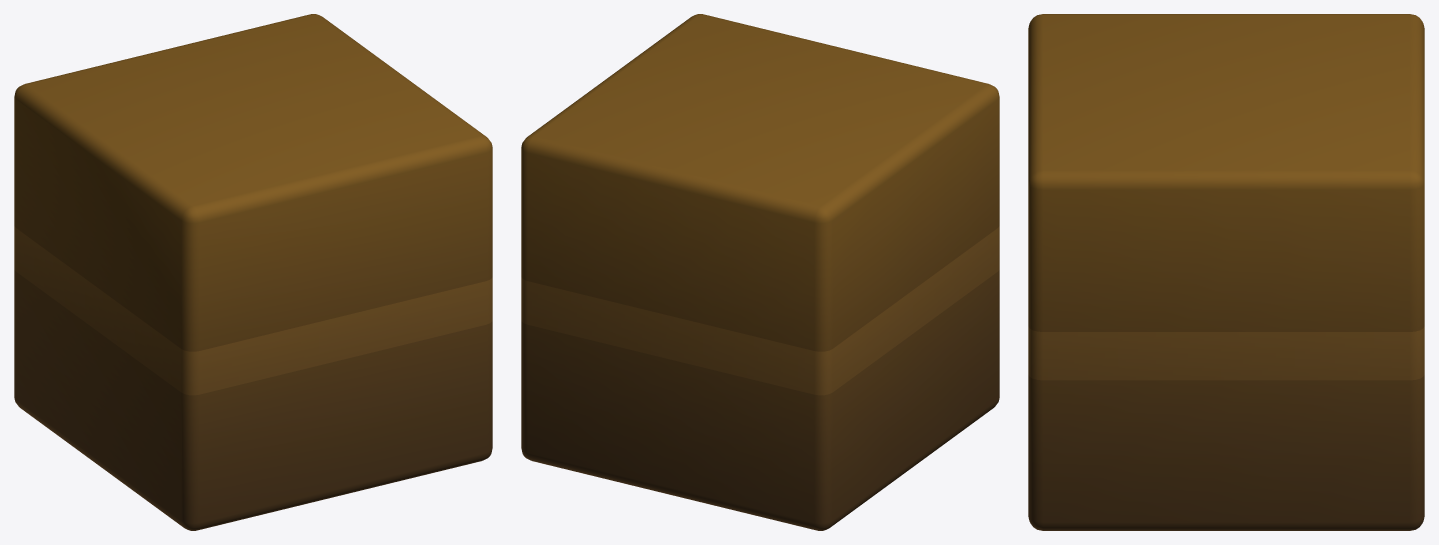
3 views of the same model, side by side, from view 1: azimuth 30°, elevation 25°; view 2: azimuth 150°, elevation 25°; view 3: azimuth 270°, elevation 25° (orthographic). The views are drawn at different scales.
Visible parts, largest first — view 1: Cube_03; view 2: Cube_03; view 3: Cube_03.
Part boxes in pixels (x1,y1,x2,y2): Cube_03: [14, 14, 492, 530]; Cube_03: [521, 14, 999, 530]; Cube_03: [1028, 14, 1424, 530].
Bounding box in the file's own units: 2 × 2 × 2.
